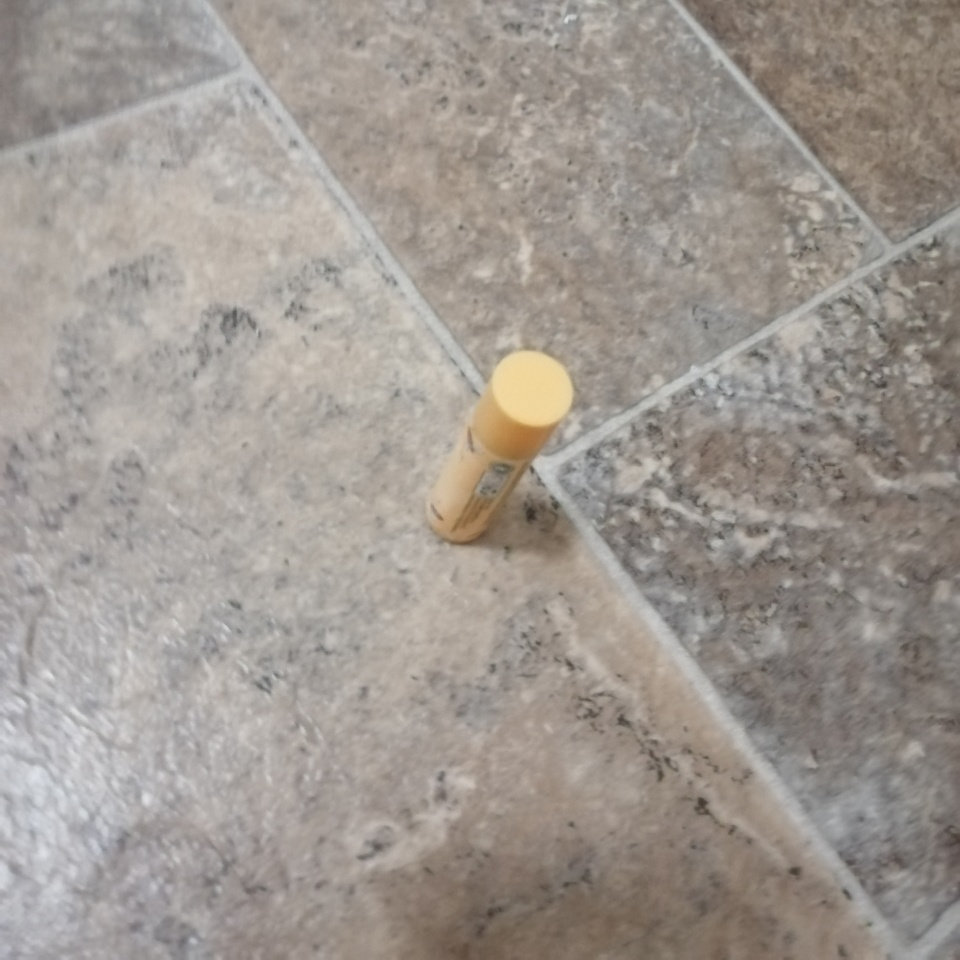chapstick: (430, 348, 573, 543)
